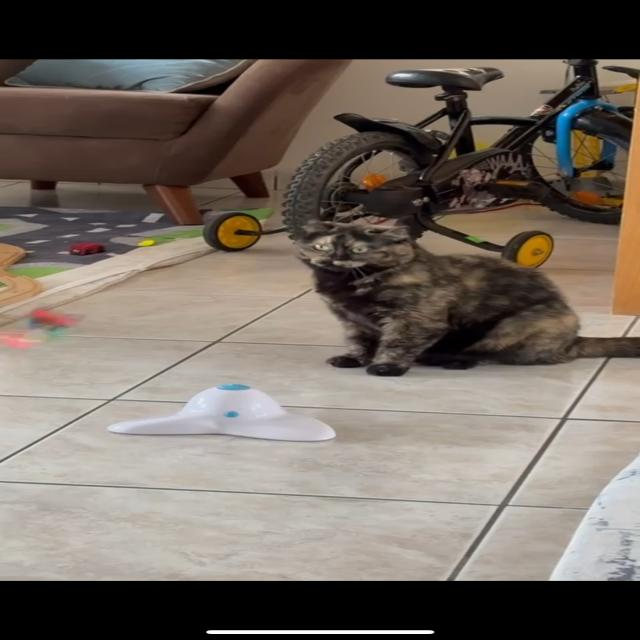authorized: (291, 218, 638, 376)
